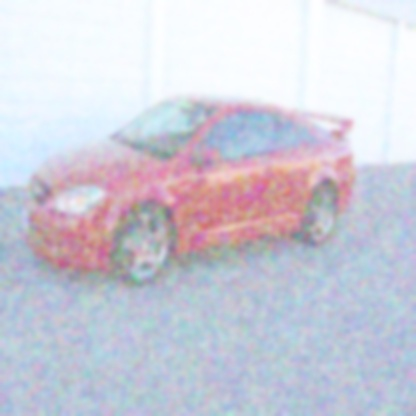Vehicle: (21, 91, 357, 288)
